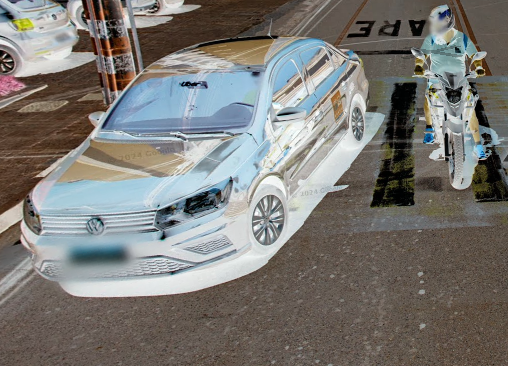car: (18, 16, 374, 288)
